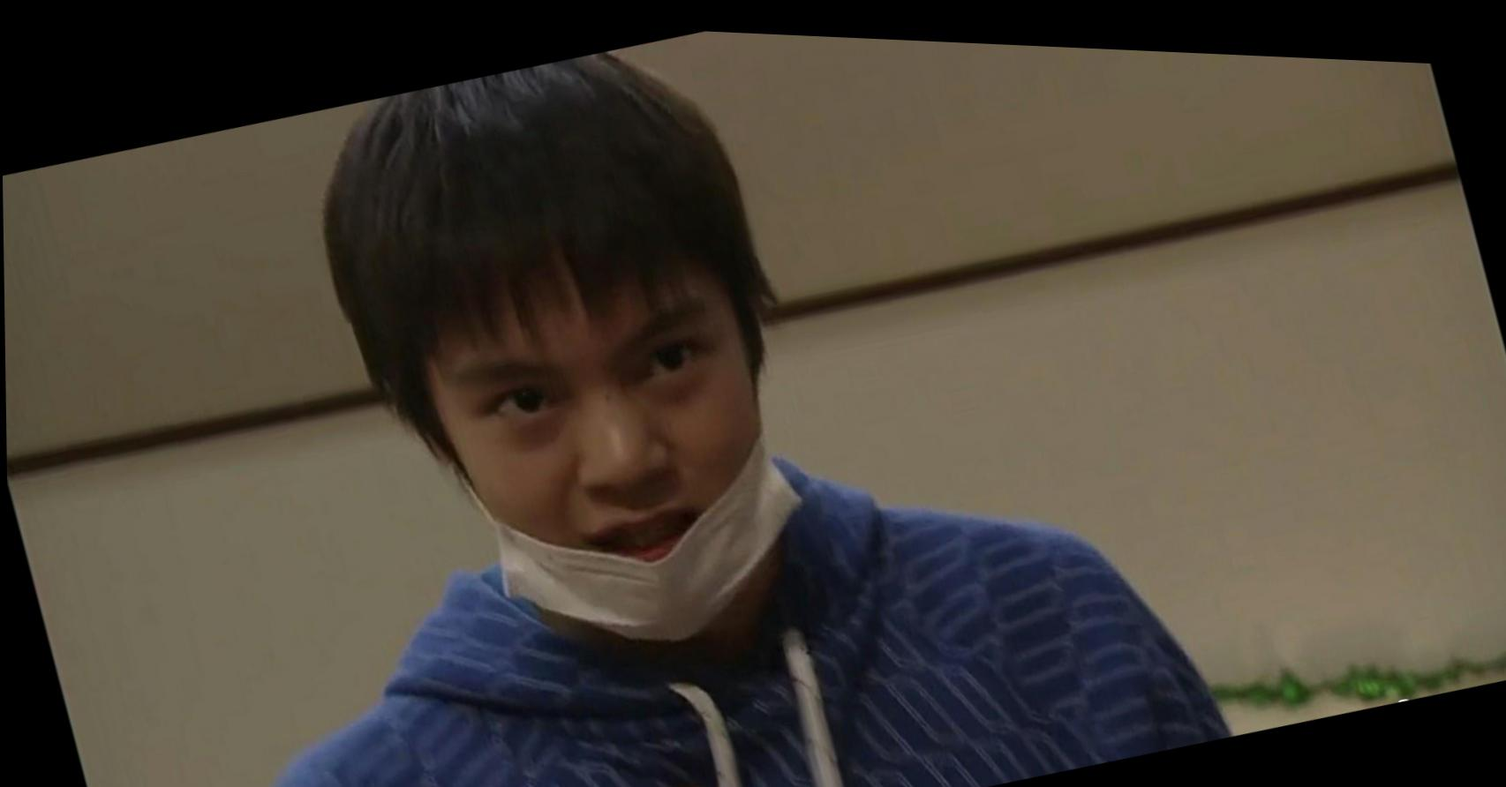WRONG: (411, 251, 817, 667)
